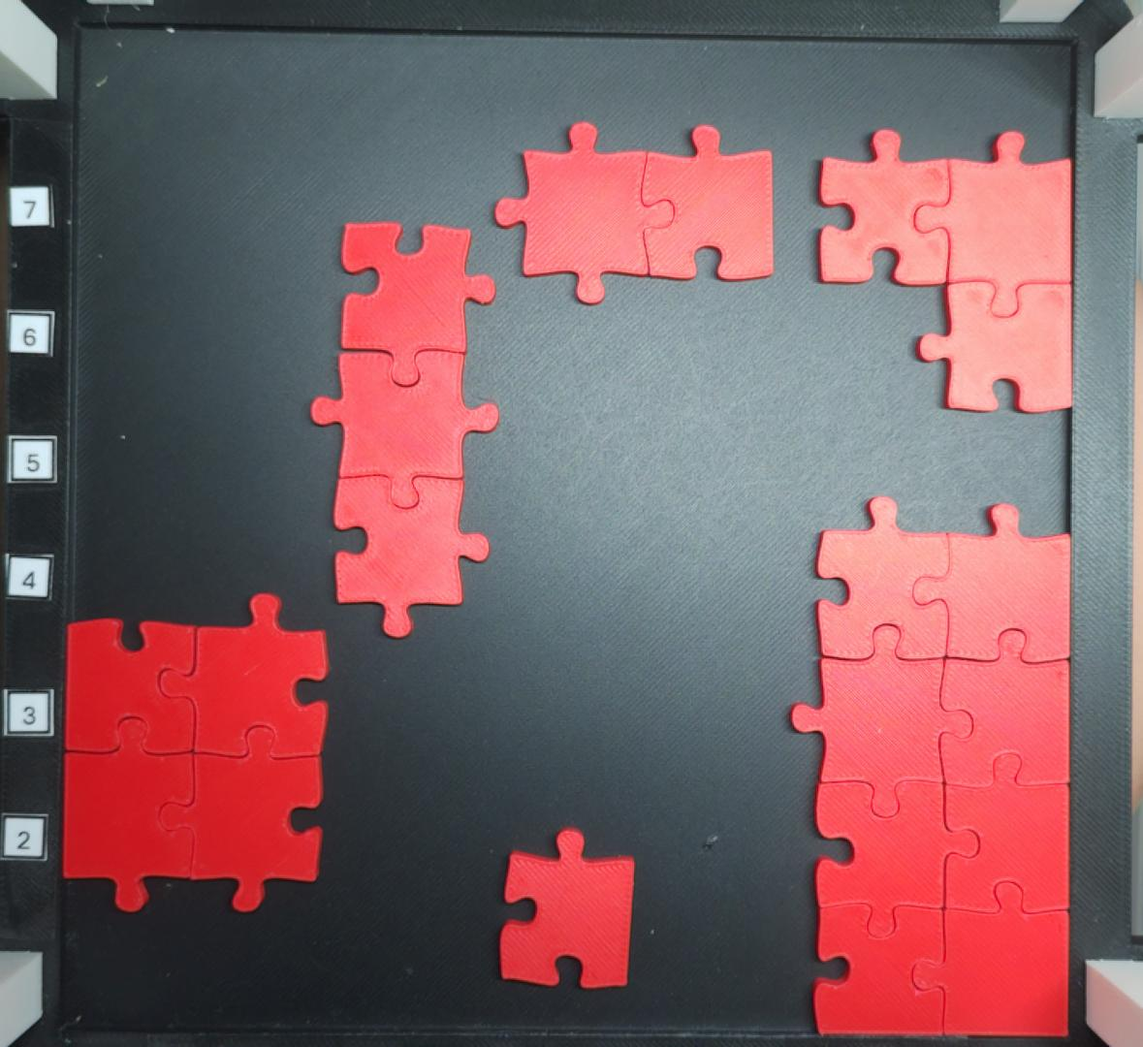p_1: (495, 829, 637, 989)
p_2: (491, 120, 778, 304)
p_3: (306, 219, 498, 639), (815, 130, 1070, 414)
p_4: (61, 591, 331, 913)
p_m: (791, 496, 1070, 1037)
